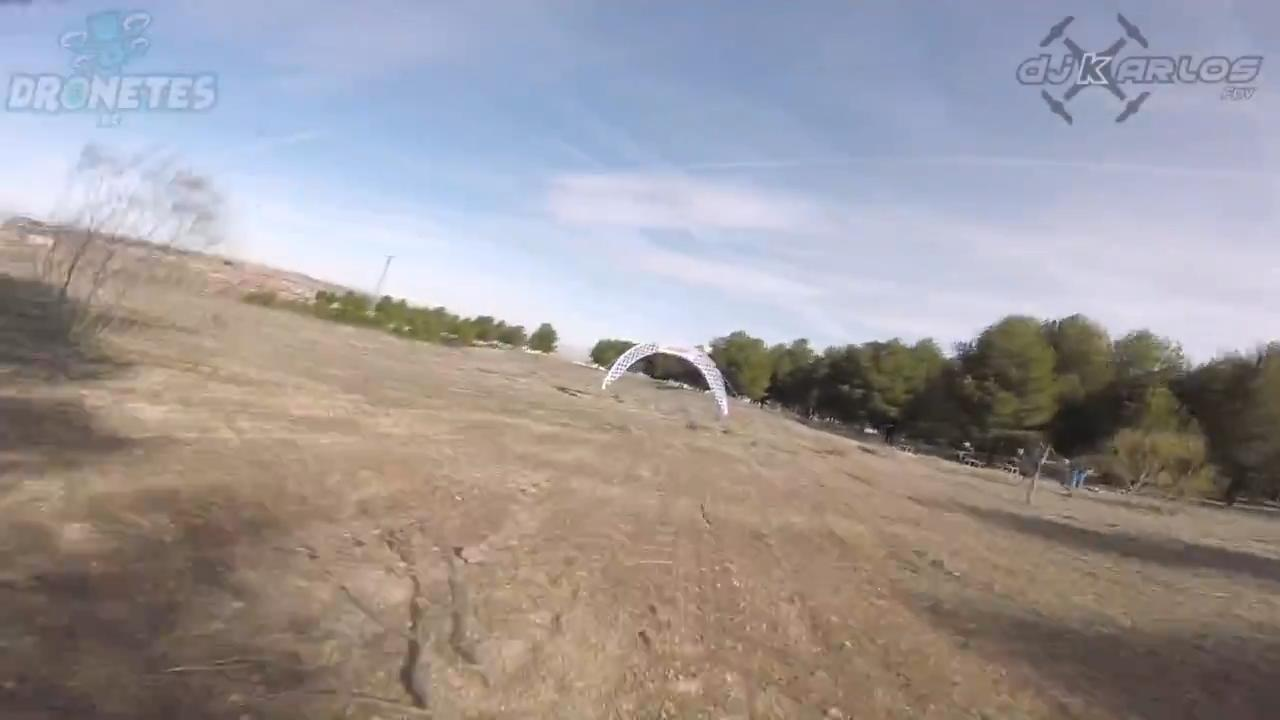gate: (598, 337, 730, 419)
